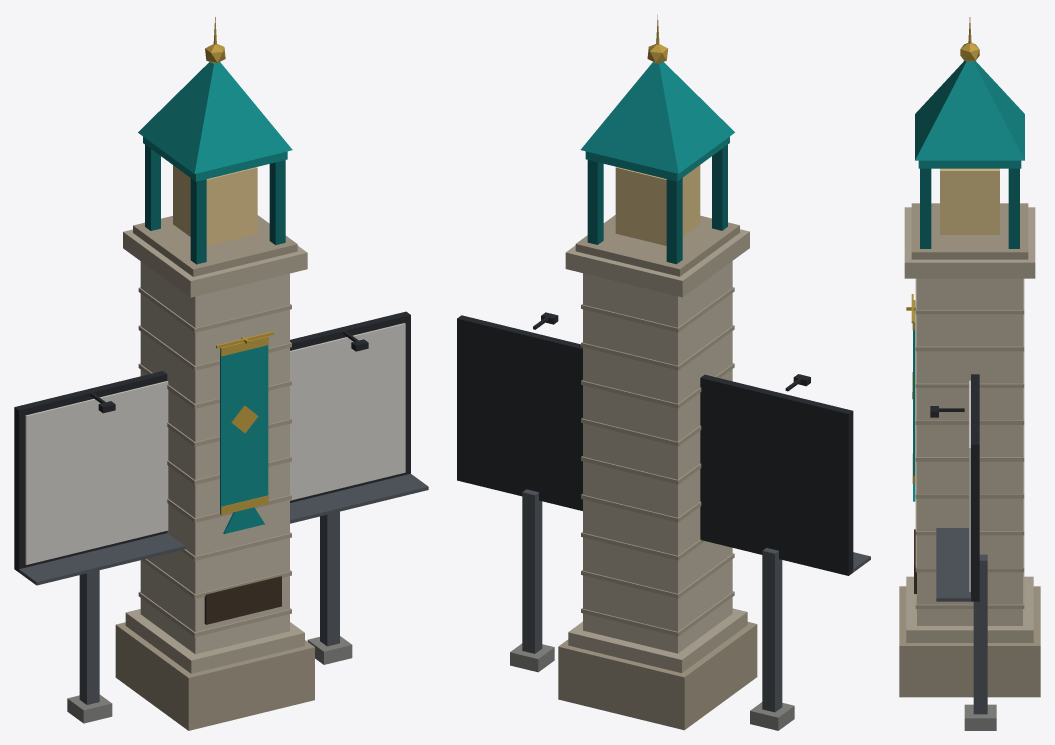
The model's file is bridge.glb.
The picture shows the model from 3 angles, left to right: view 1: azimuth 30°, elevation 25°; view 2: azimuth 150°, elevation 25°; view 3: azimuth 270°, elevation 25°; orthographic projection. The views are drawn at different scales.
Parts seen in each view (by area): view 1: pylon, billboard; view 2: pylon, billboard; view 3: pylon, billboard.
Part boxes in pixels (x1,y1,x2,y2): pylon: (115, 17, 314, 730); billboard: (14, 311, 428, 723); pylon: (558, 14, 757, 730); billboard: (457, 312, 870, 730); pylon: (899, 17, 1040, 697); billboard: (930, 374, 996, 730).
Bounding box in the file's own units: 12.4 × 20.4 × 4.
